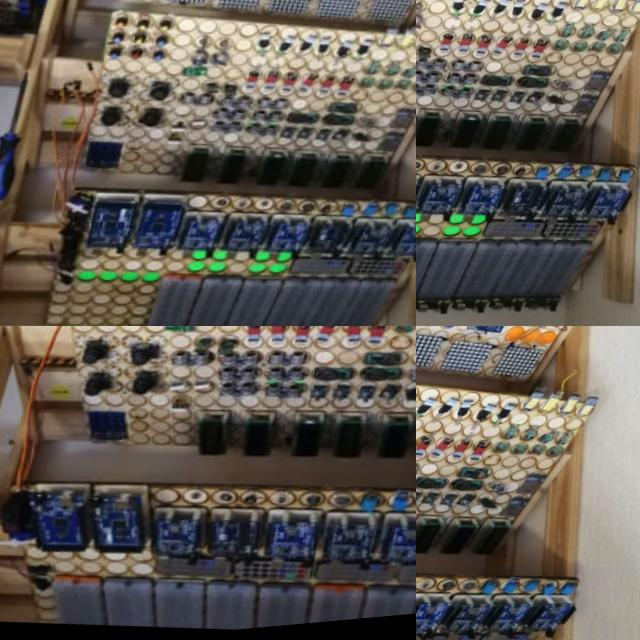Green-circles: (80, 266, 167, 301), (186, 247, 236, 287), (443, 216, 494, 251), (251, 251, 295, 289), (62, 316, 154, 326), (416, 211, 429, 249)
